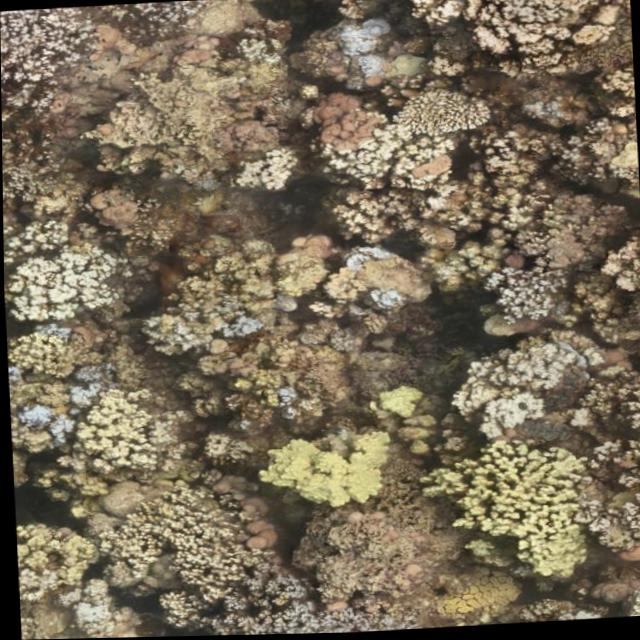Bleached Coral: (472, 349, 564, 431), (332, 13, 398, 92), (197, 308, 271, 347), (17, 404, 79, 449), (57, 599, 111, 639), (351, 285, 393, 323), (339, 244, 386, 273)
